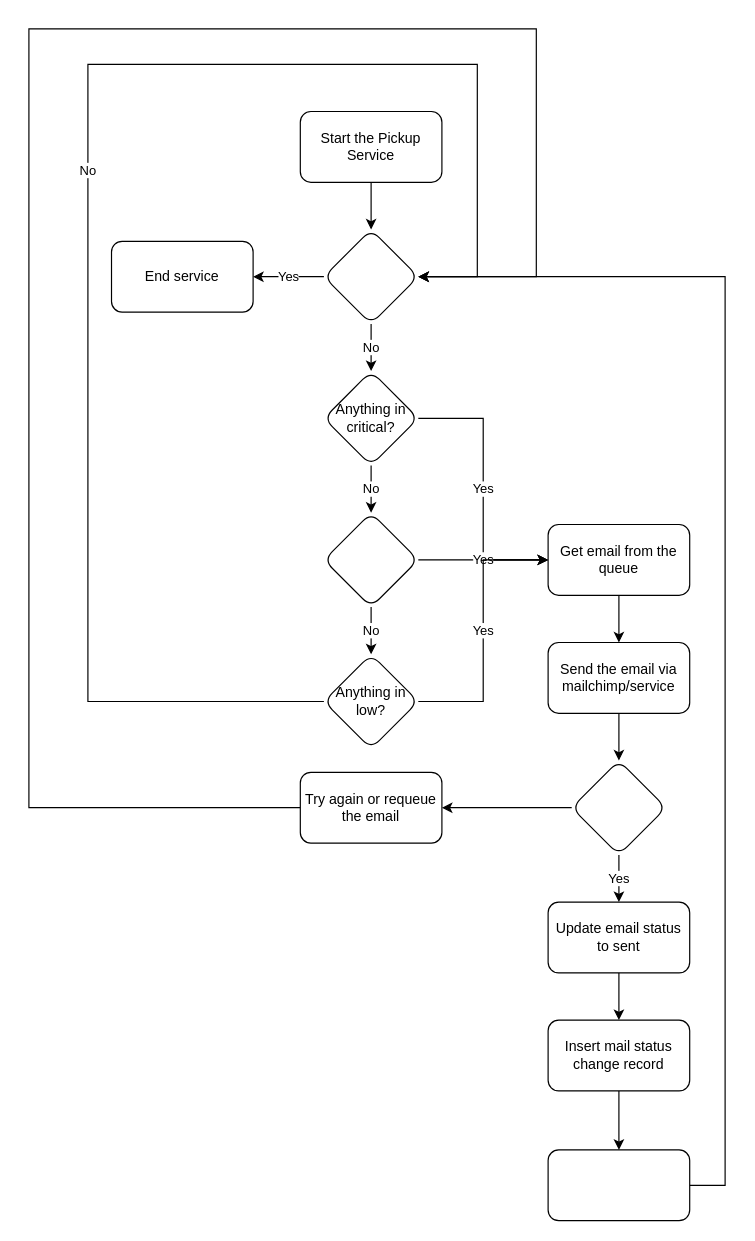
This 755x1241 diagram has some shape labels left out. The centre of each missing label's shape, as x and y in pixels:
Anything in medium?: [370,559]
Remove email from the queue: [618,1185]
Should we stop?: [370,276]
Successful?: [618,807]
